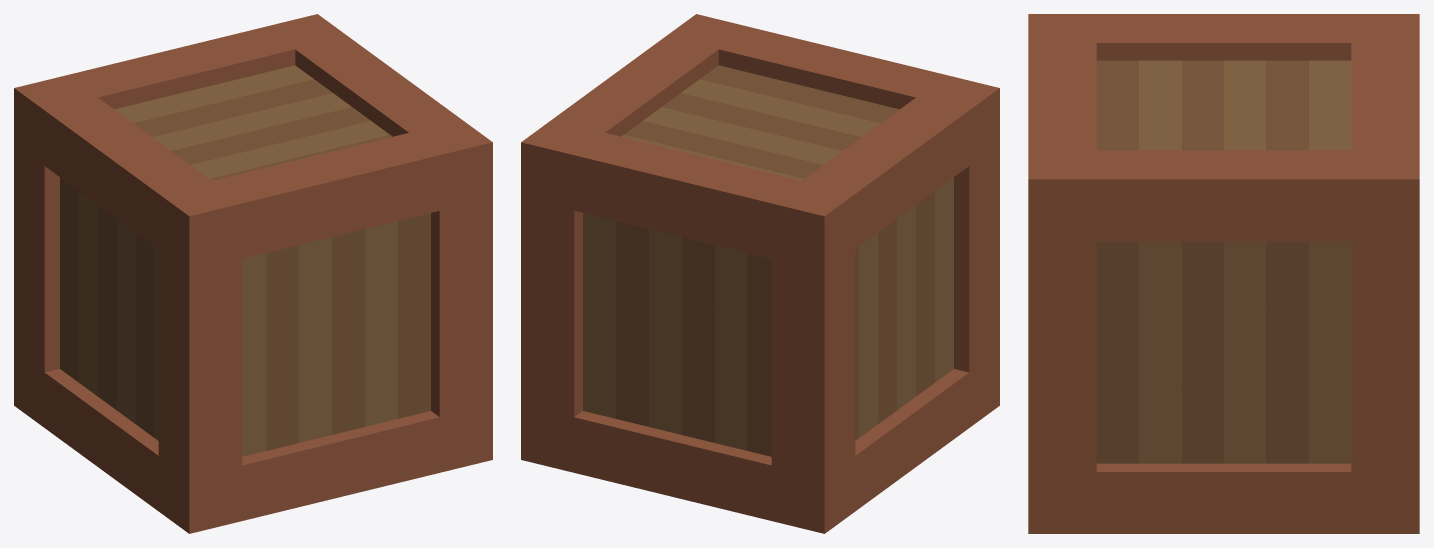
3 renders of one model, left to right at view 1: azimuth 30°, elevation 25°; view 2: azimuth 150°, elevation 25°; view 3: azimuth 270°, elevation 25°, orthographic. The views are drawn at different scales.
Parts seen in each view (by area): view 1: cuboid; view 2: cuboid; view 3: cuboid.
Boxes of the visible parts, box(x1,y1,x2,y2) form: cuboid: box(14, 14, 492, 533); cuboid: box(521, 14, 999, 533); cuboid: box(1028, 14, 1419, 533).
Size of the model in its own units: 25 by 25 by 25.
Materials: 1 (1 with a texture image).
